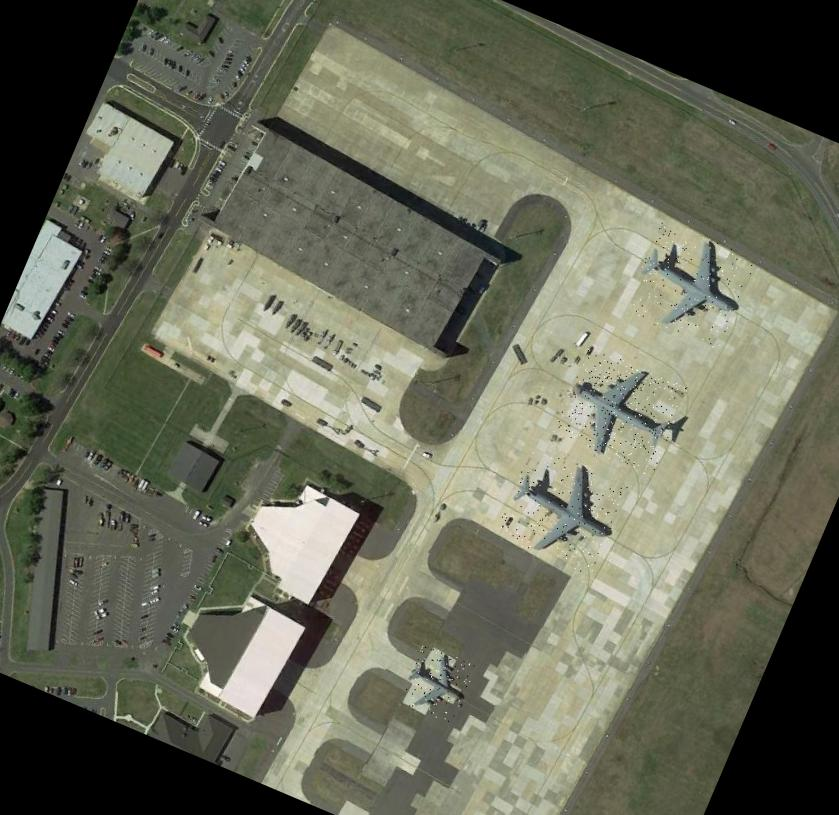A14: (397, 642, 476, 724)
A4: (493, 442, 630, 575), (552, 345, 688, 476), (623, 218, 756, 348)
